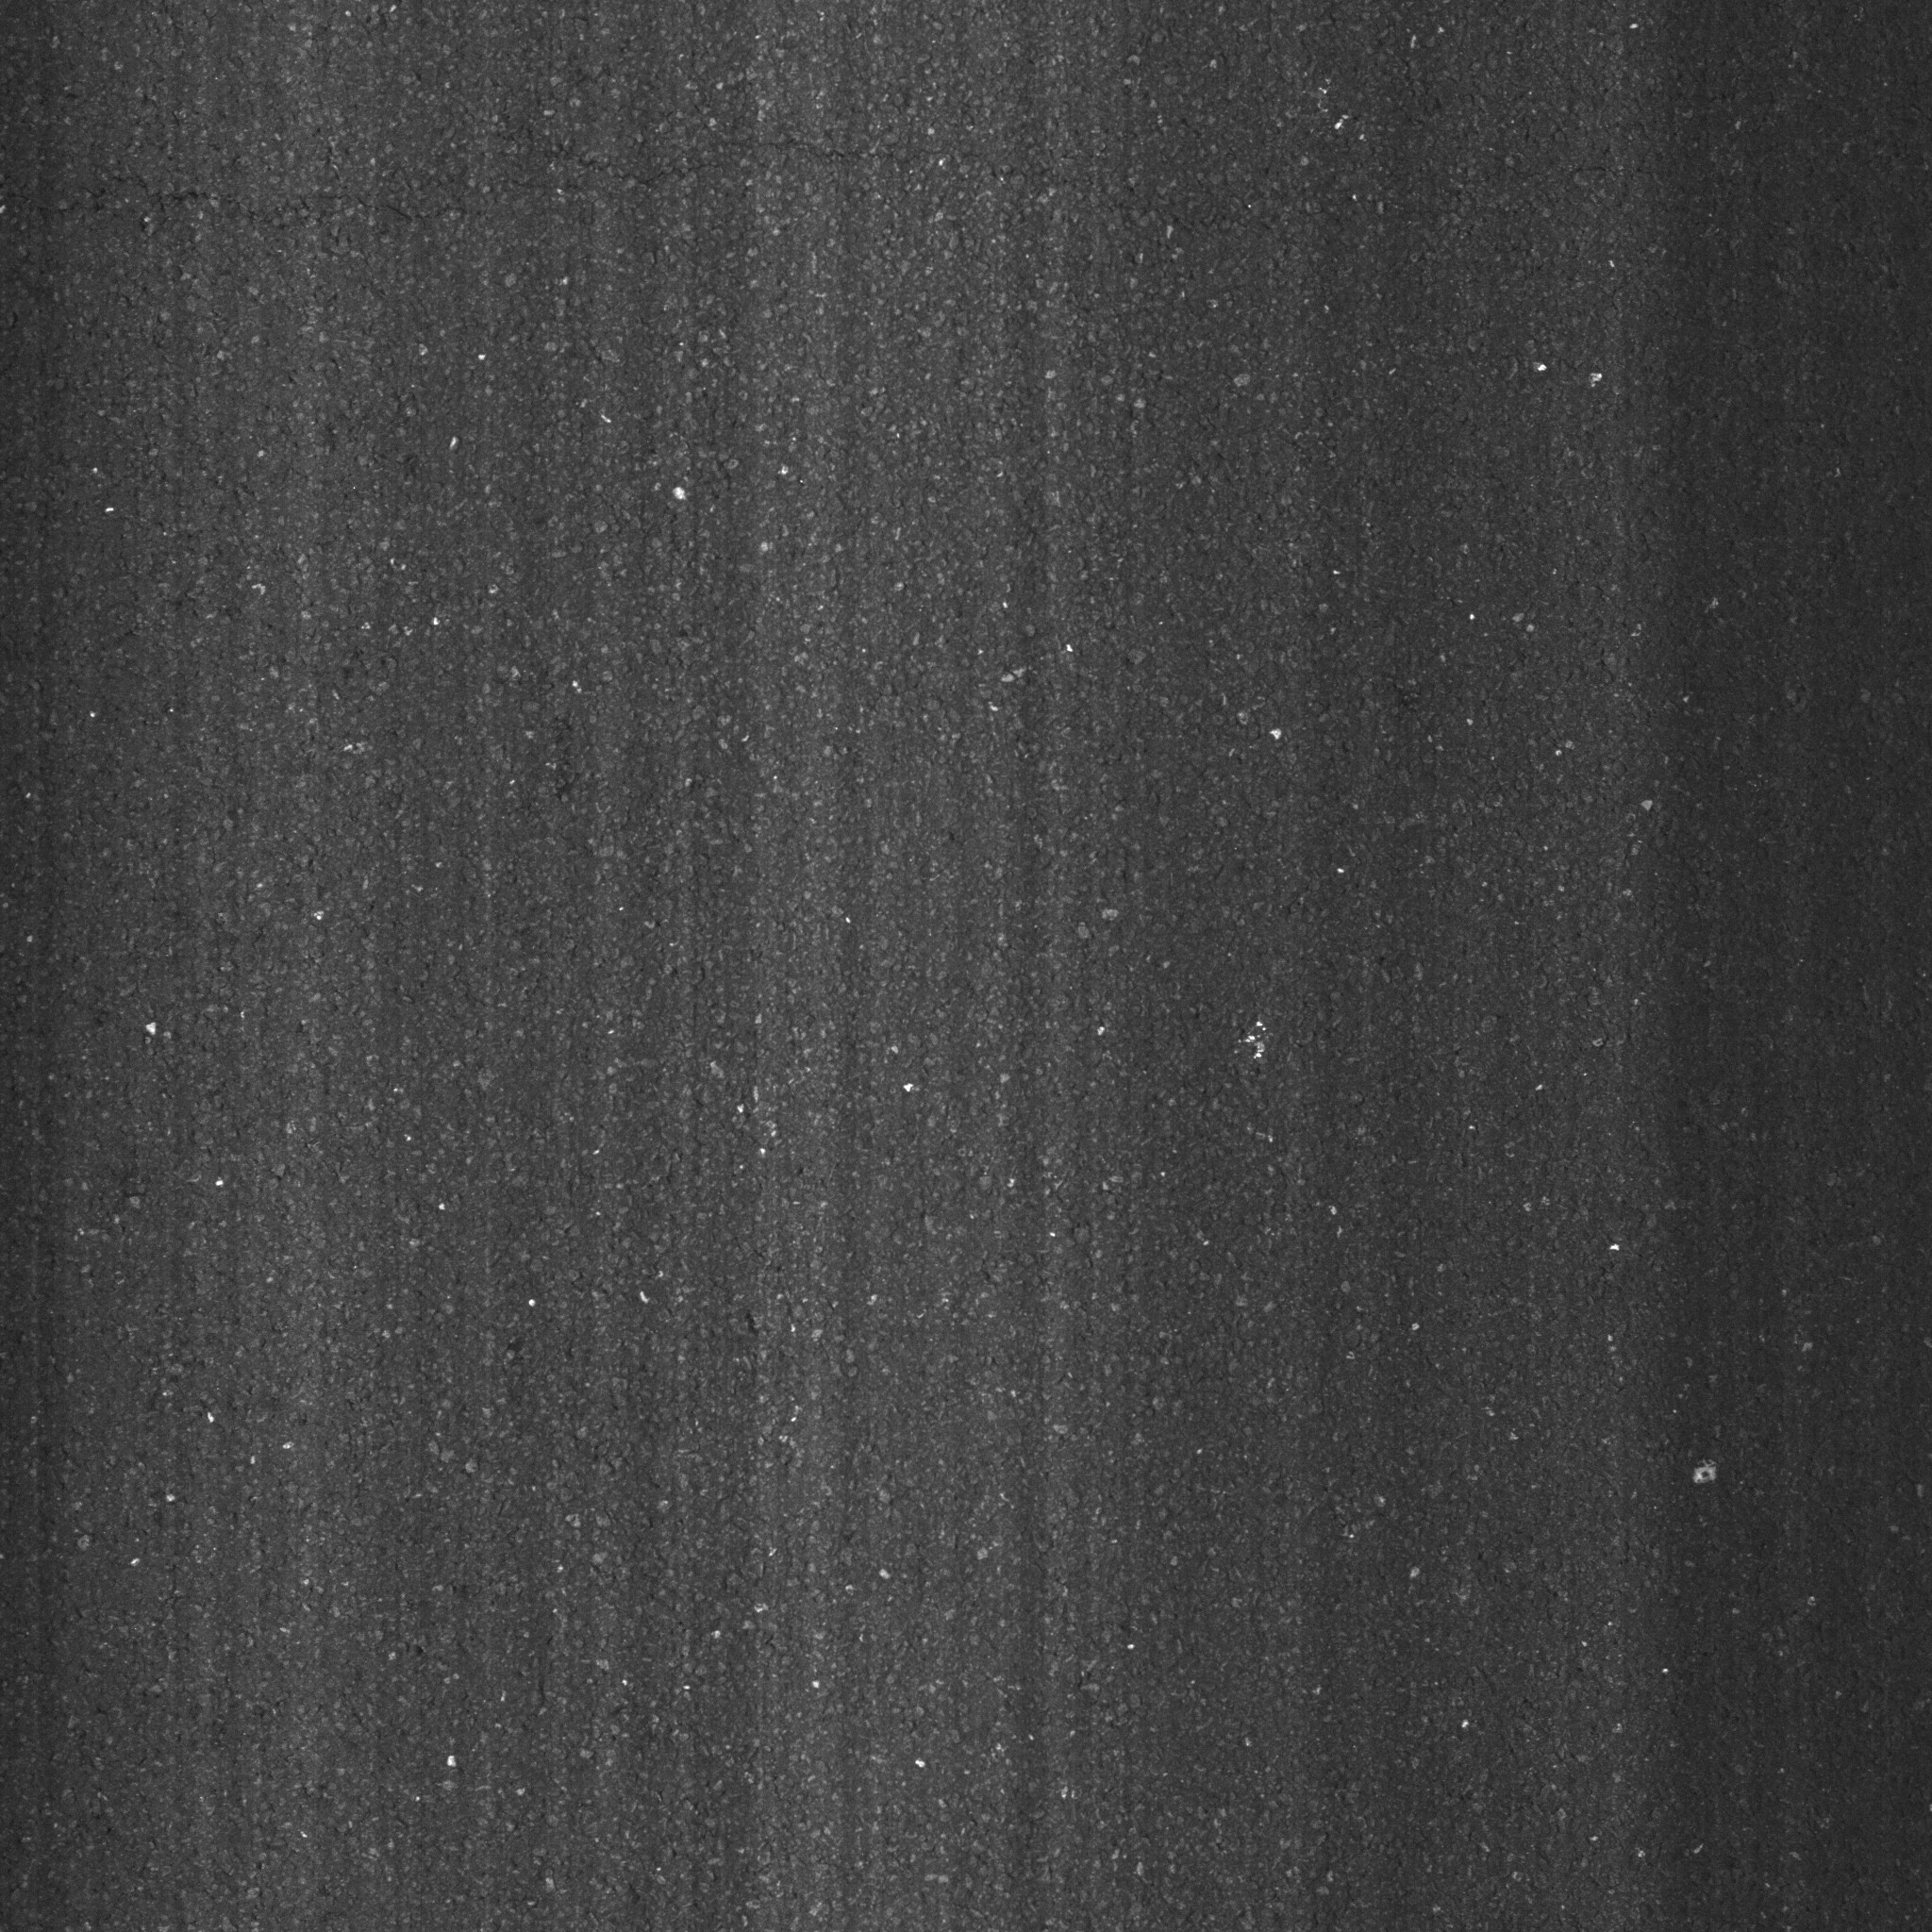transeverse: (32, 131, 1099, 260)
